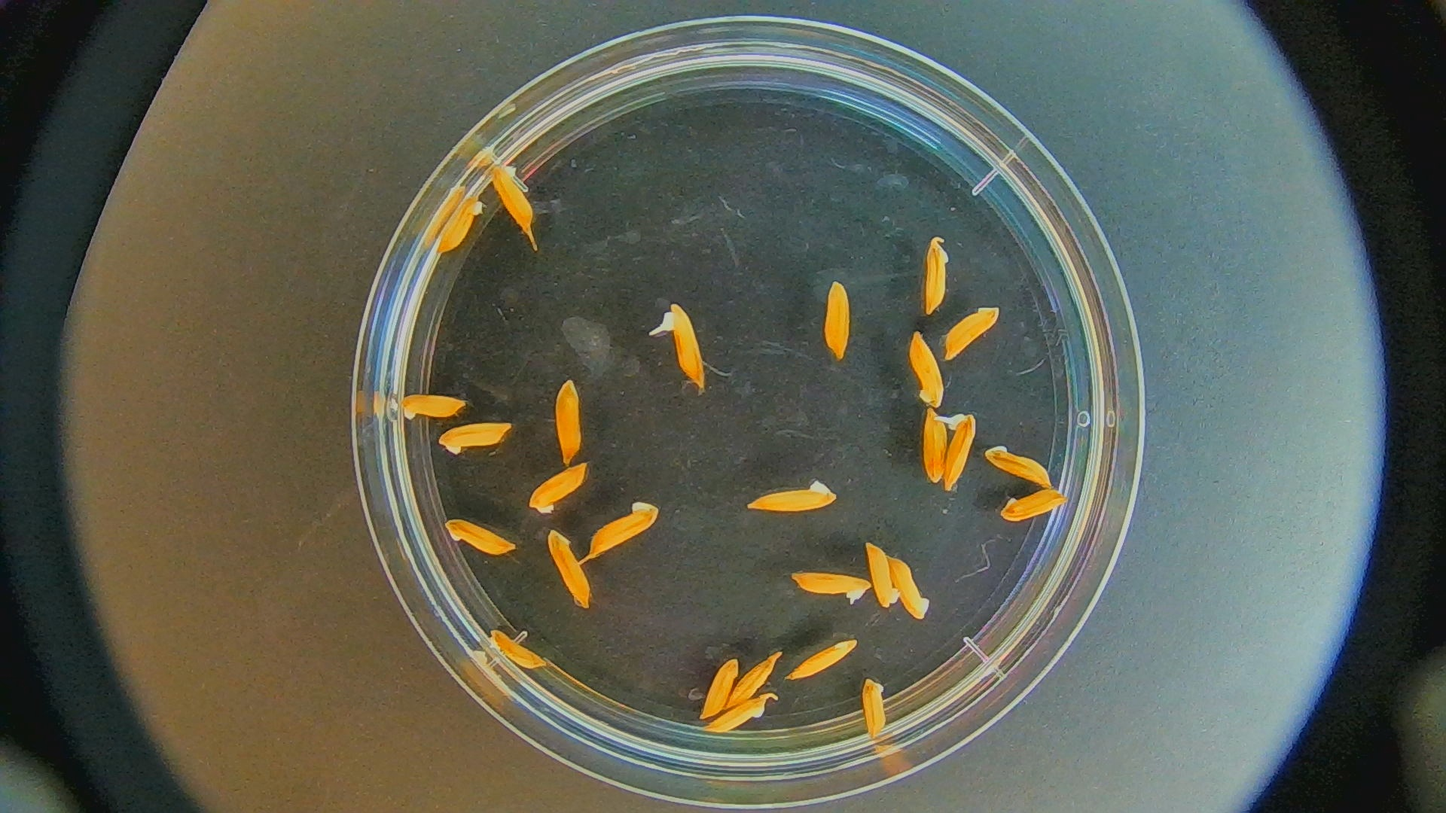no: (935, 301, 1006, 369), (725, 647, 785, 714), (545, 528, 593, 611), (588, 500, 655, 559), (903, 324, 950, 408), (982, 442, 1056, 494), (703, 693, 783, 740), (526, 461, 596, 513), (486, 158, 535, 231), (550, 376, 590, 465), (859, 538, 904, 615), (915, 233, 953, 324), (889, 553, 932, 633), (430, 196, 486, 257), (748, 479, 836, 516), (818, 279, 856, 364), (698, 654, 741, 726), (789, 637, 859, 681), (915, 405, 949, 492), (998, 485, 1069, 526), (792, 565, 870, 602), (444, 519, 514, 559), (397, 389, 465, 428), (492, 626, 548, 671), (437, 422, 512, 453), (862, 676, 889, 744)
yes: (664, 305, 705, 386), (942, 411, 975, 489)
